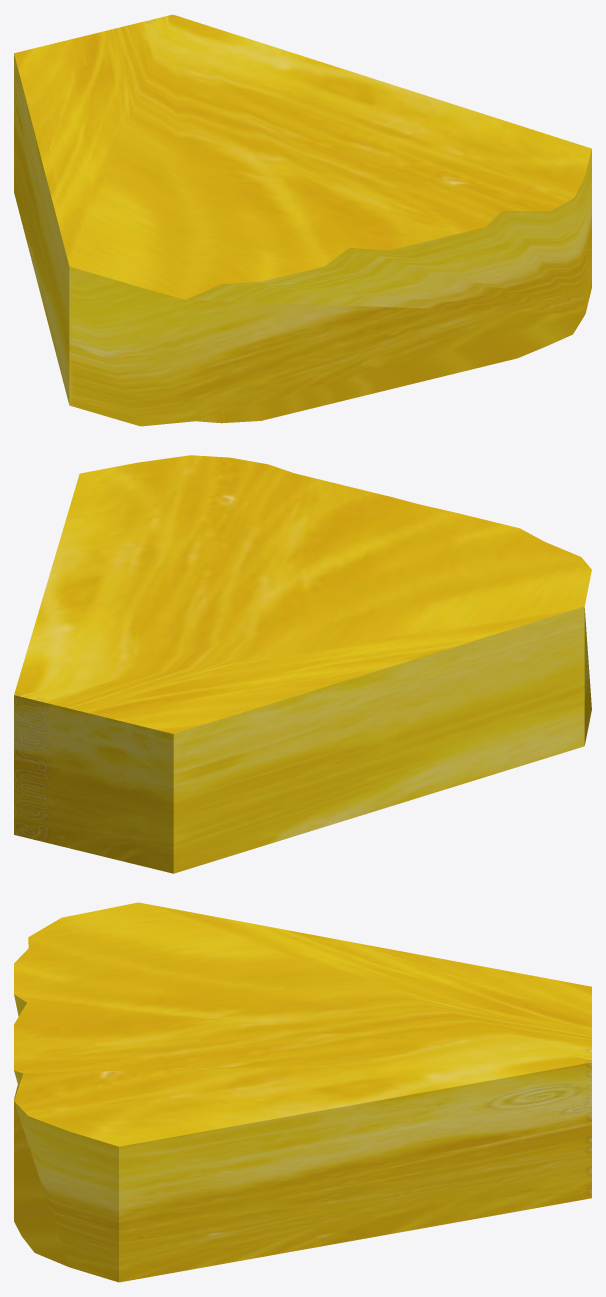
The model's file is pinapple_1.obj.
The picture shows the model from 3 angles, top to bottom: view 1: azimuth 30°, elevation 25°; view 2: azimuth 150°, elevation 25°; view 3: azimuth 270°, elevation 25°; orthographic projection. The views are drawn at different scales.
Visible parts, largest first — view 1: Cube_Cube.006; view 2: Cube_Cube.006; view 3: Cube_Cube.006.
Part boxes in pixels (bbox=[...]): Cube_Cube.006: bbox=[14, 14, 591, 426]; Cube_Cube.006: bbox=[14, 455, 591, 873]; Cube_Cube.006: bbox=[14, 902, 591, 1282].
Bounding box in the file's own units: 0.0869 × 0.0237 × 0.0869.
1 material, 1 textured.
